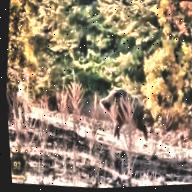boar: (97, 79, 156, 136)
